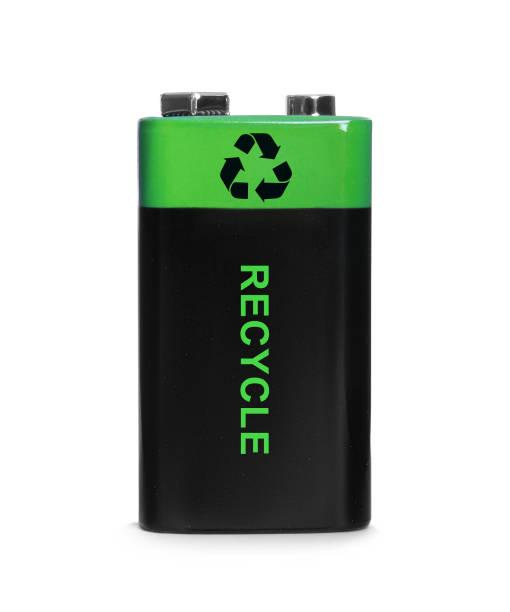9V Battery: (138, 91, 372, 536)
